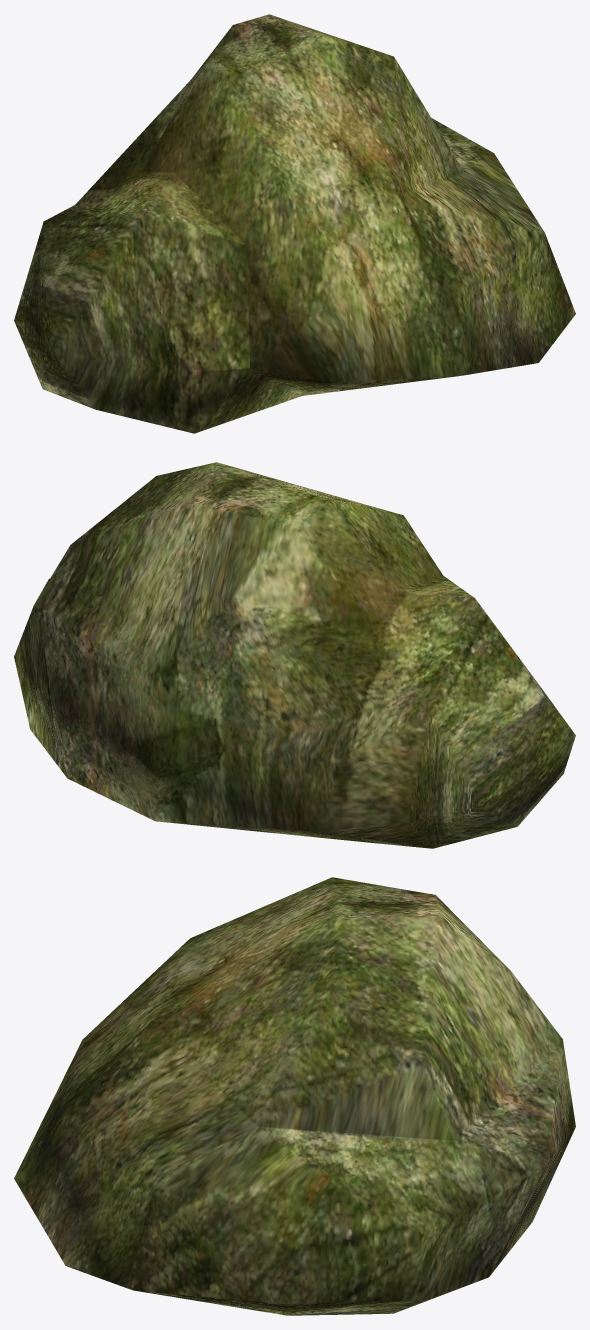
Rendered from rock_endr_mossyrock_m_a1_l1.fbx.
3 views of the same model, one above another, from view 1: azimuth 30°, elevation 25°; view 2: azimuth 150°, elevation 25°; view 3: azimuth 270°, elevation 25° (orthographic). The views are drawn at different scales.
Parts seen in each view (by area): view 1: mesh_node; view 2: mesh_node; view 3: mesh_node.
Part boxes in pixels (x1,y1,x2,y2): mesh_node: (14,14,575,433); mesh_node: (14,462,575,848); mesh_node: (14,877,575,1315).
Bounding box in the file's own units: 2.5 × 1.46 × 2.13.
1 material, 1 textured.
